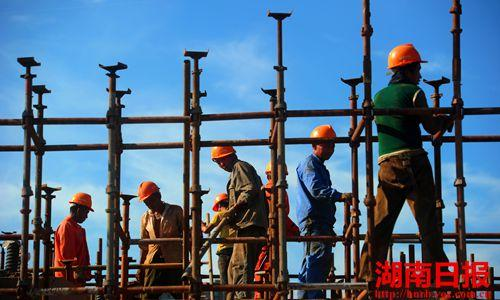helmet: (388, 42, 422, 69), (310, 123, 337, 141), (70, 194, 96, 212), (138, 181, 160, 202), (211, 145, 235, 161), (264, 161, 289, 176), (212, 195, 230, 212)
